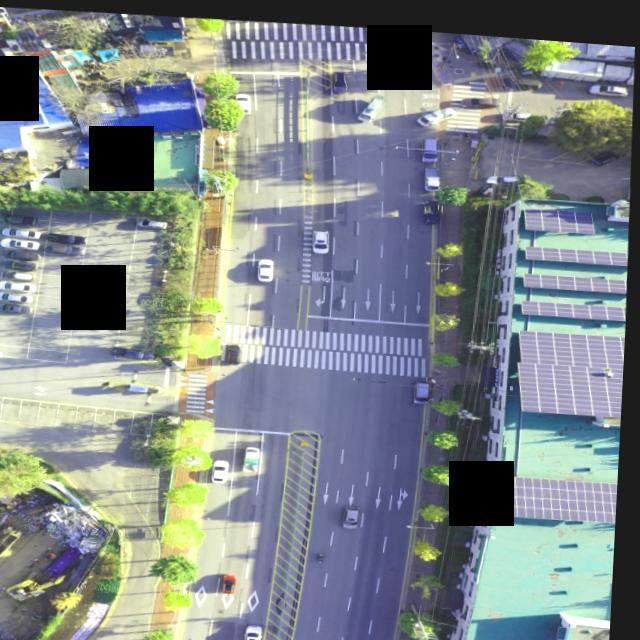car: (587, 134, 626, 157), (112, 342, 158, 358), (499, 66, 541, 82), (587, 72, 628, 87), (46, 239, 84, 254), (47, 228, 88, 241), (419, 131, 438, 156), (413, 371, 432, 395), (312, 223, 331, 247), (466, 86, 500, 99), (258, 253, 277, 276), (330, 64, 349, 87), (4, 212, 40, 224), (2, 238, 41, 249), (0, 300, 35, 312), (6, 257, 41, 269), (249, 618, 268, 640), (0, 280, 38, 291), (4, 224, 42, 235), (234, 86, 253, 107), (226, 339, 245, 360), (0, 290, 36, 301), (488, 164, 521, 176), (216, 456, 233, 479), (345, 500, 363, 521), (7, 247, 41, 258), (140, 213, 171, 225), (225, 567, 242, 588), (502, 99, 529, 109), (11, 270, 37, 280), (0, 340, 5, 361)
small_truck: (416, 97, 457, 118), (354, 86, 384, 114), (137, 38, 176, 53), (246, 440, 266, 467), (423, 158, 442, 183), (424, 192, 443, 215)
